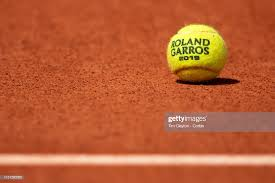tennis_ball: (165, 23, 227, 84)
